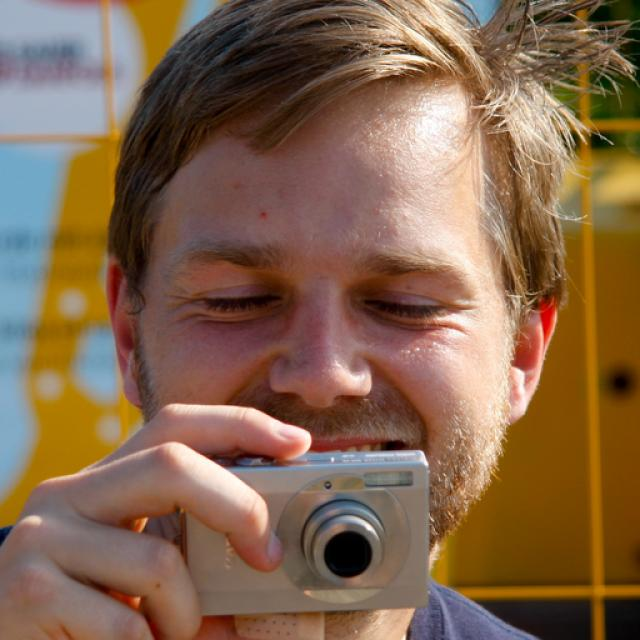Acne: (248, 202, 277, 230)
